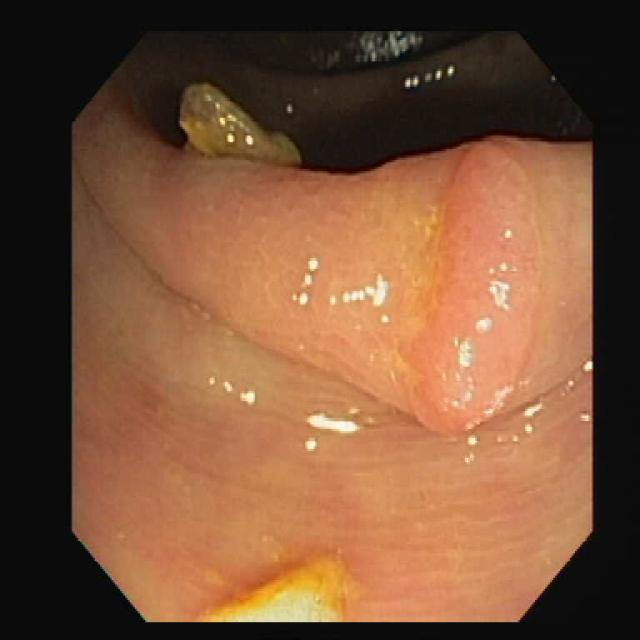tumor: (433, 142, 538, 429)
